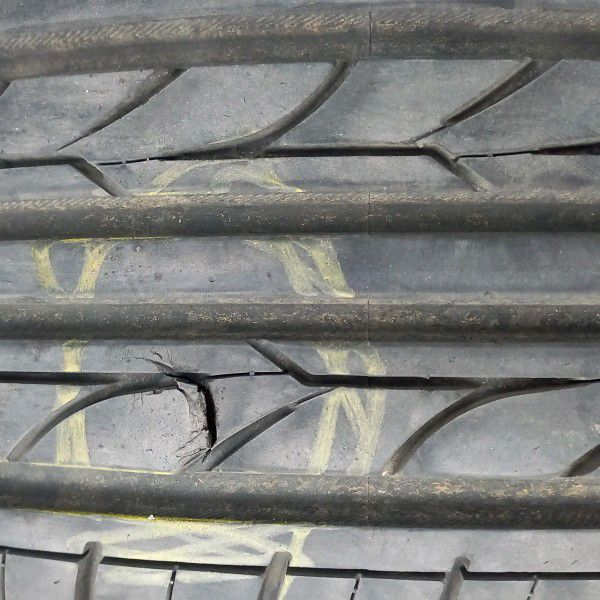tr: (135, 359, 221, 460)
